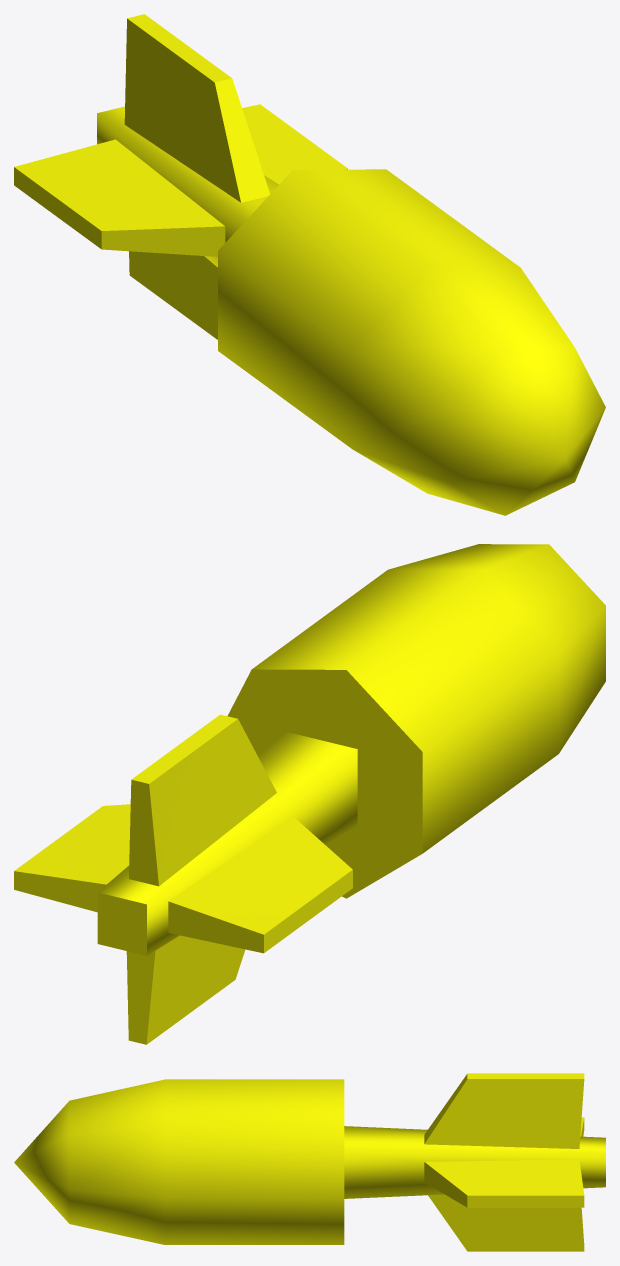
3 renders of one model, top to bottom at view 1: azimuth 30°, elevation 25°; view 2: azimuth 150°, elevation 25°; view 3: azimuth 270°, elevation 25°, orthographic. The views are drawn at different scales.
Visible parts, largest first — view 1: projectile_rocket; view 2: projectile_rocket; view 3: projectile_rocket.
Part boxes in pixels (bbox=[...]): projectile_rocket: bbox=[14, 14, 605, 515]; projectile_rocket: bbox=[14, 544, 605, 1044]; projectile_rocket: bbox=[14, 1073, 605, 1251].
Size of the model in its own units: 0.2432 by 0.2432 by 0.7601.
1 material, 1 textured.
